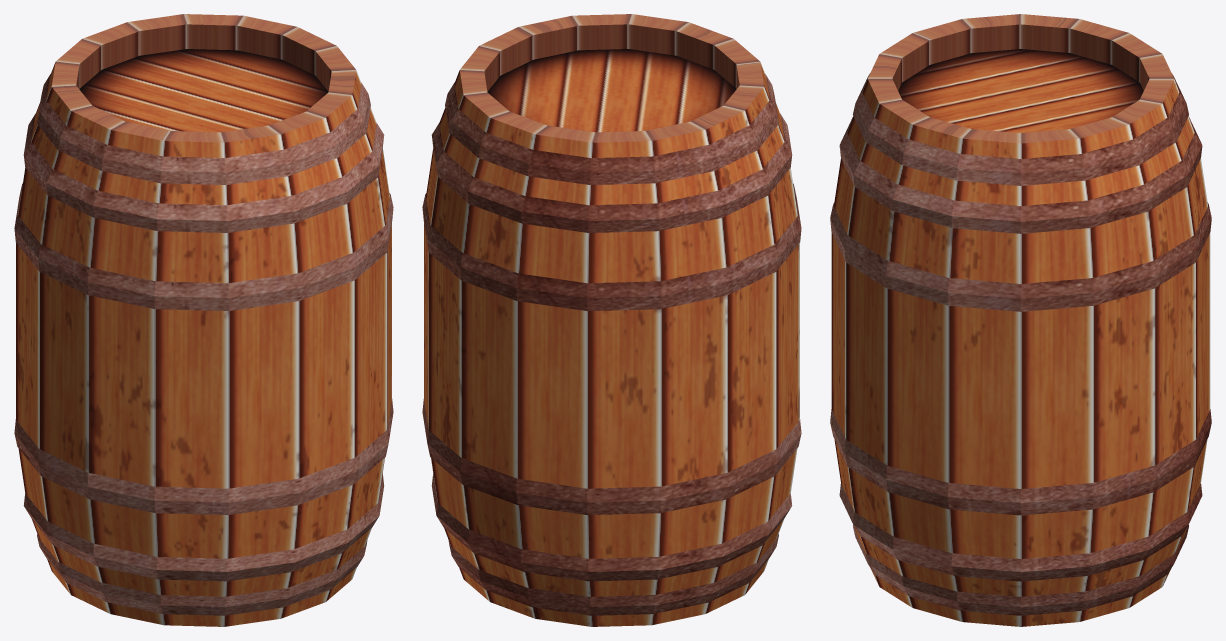
Rendered from Barrel3.fbx.
3 renders of one model, left to right at view 1: azimuth 30°, elevation 25°; view 2: azimuth 150°, elevation 25°; view 3: azimuth 270°, elevation 25°, orthographic.
Visible parts, largest first — view 1: body, cinta, top; view 2: body, cinta, top; view 3: body, cinta, top.
Boxes of the visible parts, x1=… form: body: x1=16, y1=14, x2=391, y2=626; cinta: x1=14, y1=74, x2=393, y2=615; top: x1=79, y1=49, x2=328, y2=132; body: x1=424, y1=14, x2=799, y2=626; cinta: x1=422, y1=74, x2=801, y2=615; top: x1=487, y1=49, x2=736, y2=132; body: x1=831, y1=14, x2=1210, y2=626; cinta: x1=830, y1=74, x2=1211, y2=615; top: x1=898, y1=49, x2=1143, y2=132.
Bounding box in the file's own units: 71.42 × 99.79 × 71.42.
